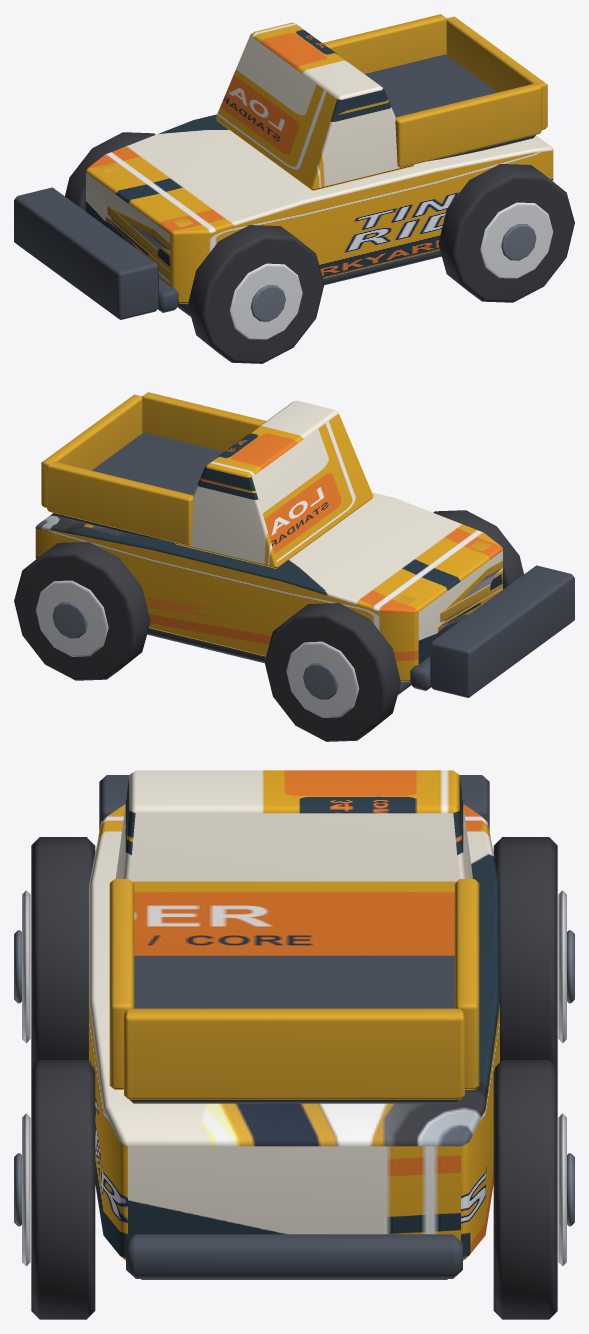
3 renders of one model, top to bottom at view 1: azimuth 30°, elevation 25°; view 2: azimuth 150°, elevation 25°; view 3: azimuth 270°, elevation 25°, orthographic. The views are drawn at different scales.
Visible parts, largest first — view 1: WY-05_connected_shell, WY-05_cabin, loader bucket, Tire.002, Tire, cargo side, cargo floor, cargo side.001, cargo tail, Rim, Rim.002, Tire.001 (+4 smaller); view 2: WY-05_connected_shell, WY-05_cabin, loader bucket, Tire.003, Tire.001, cargo side.001, cargo floor, cargo side, cargo tail, Rim.001, Rim.003, Tire (+4 smaller); view 3: WY-05_connected_shell, WY-05_cabin, cargo tail, cargo floor, Tire.002, Tire.003, rear bumper, Tire, Tire.001, cargo side, cargo side.001, loader bucket (+4 smaller).
Part boxes in pixels (<box>): WY-05_connected_shell: <box>86,114,553,303</box>; WY-05_cabin: <box>215,22,413,190</box>; loader bucket: <box>14,187,158,319</box>; Tire.002: <box>438,164,574,302</box>; Tire: <box>188,225,324,363</box>; cargo side: <box>395,83,541,167</box>; cargo floor: <box>365,54,535,161</box>; cargo side.001: <box>322,14,446,73</box>; cargo tail: <box>446,16,547,129</box>; Rim: <box>229,263,302,339</box>; Rim.002: <box>480,202,553,278</box>; Tire.001: <box>65,132,155,211</box>; WY-05_connected_shell: <box>35,492,502,681</box>; WY-05_cabin: <box>175,400,373,568</box>; loader bucket: <box>430,565,574,697</box>; Tire.003: <box>14,542,150,680</box>; Tire.001: <box>264,603,400,741</box>; cargo side.001: <box>47,461,193,545</box>; cargo floor: <box>53,432,223,539</box>; cargo side: <box>142,392,266,451</box>; cargo tail: <box>41,394,142,507</box>; Rim.001: <box>286,641,359,717</box>; Rim.003: <box>35,580,108,656</box>; Tire: <box>433,510,523,589</box>; WY-05_connected_shell: <box>89,804,499,1260</box>; WY-05_cabin: <box>116,770,472,955</box>; cargo tail: <box>124,1008,464,1099</box>; cargo floor: <box>129,955,459,1103</box>; Tire.002: <box>31,1060,95,1319</box>; Tire.003: <box>493,1060,557,1319</box>; rear bumper: <box>126,1234,462,1278</box>; Tire: <box>31,837,95,1068</box>; Tire.001: <box>493,837,557,1068</box>; cargo side: <box>109,879,134,1089</box>; cargo side.001: <box>454,879,479,1089</box>; loader bucket: <box>99,775,489,830</box>.
Size of the model in its own units: 389 by 183 by 228.
